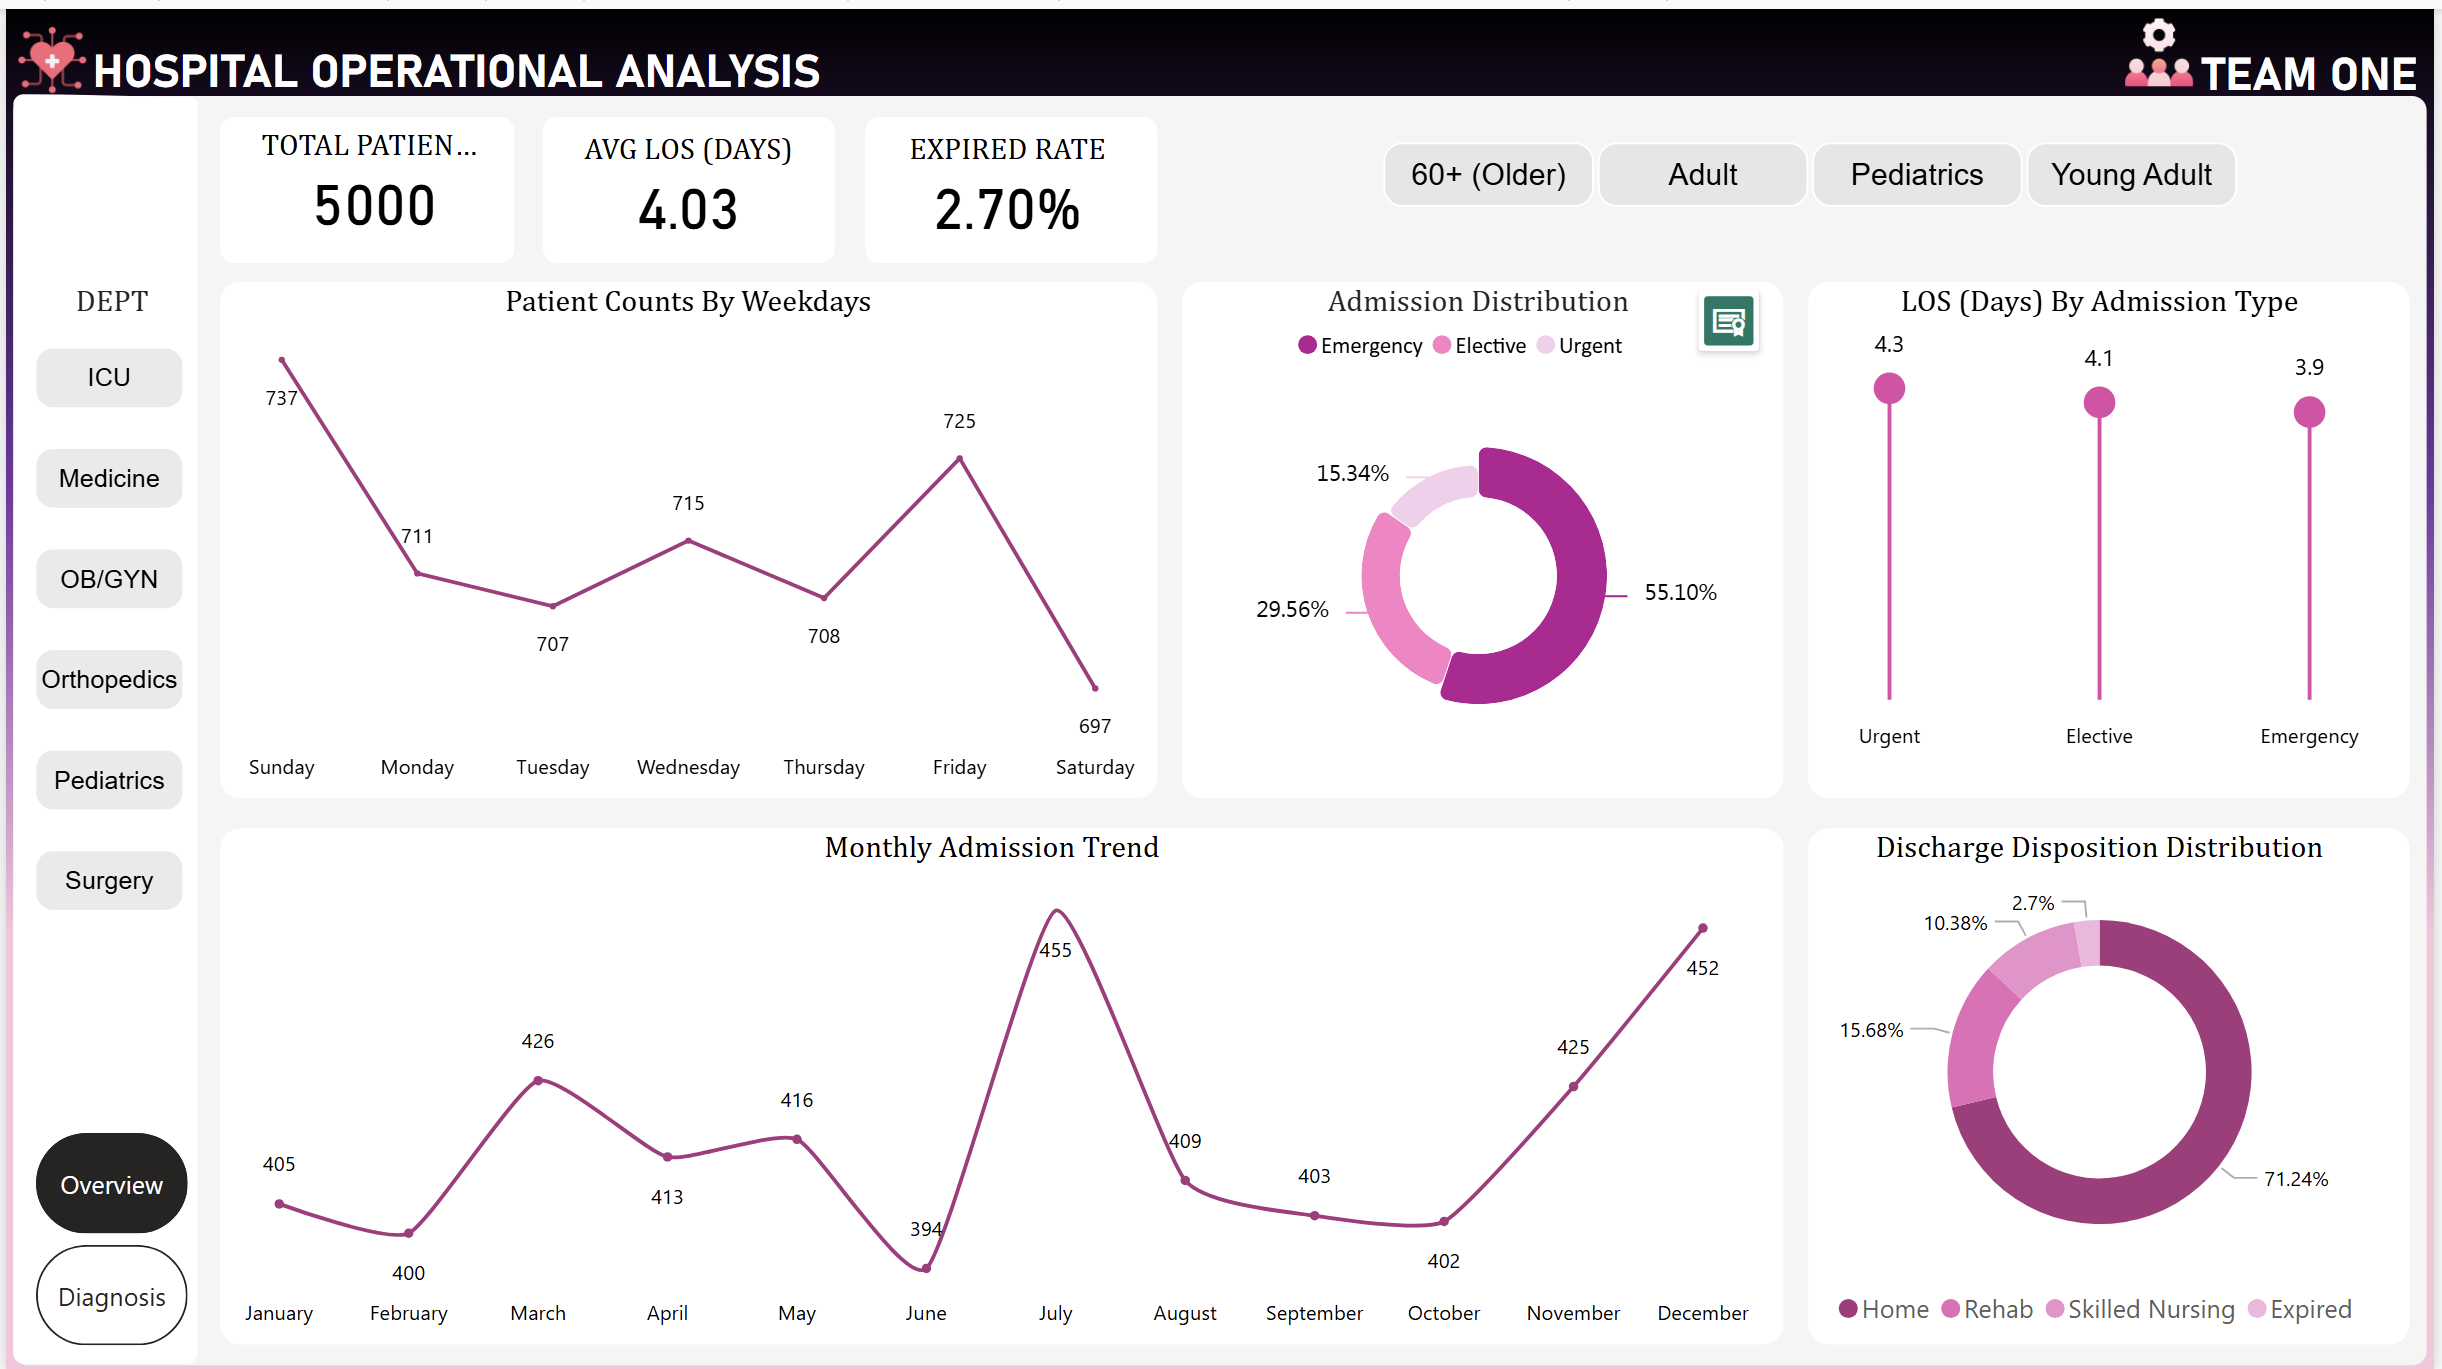

The page's visual inventory and layout, read from the dashboard file:
{"tool":"powerbi","page":{"name":"Overview","canvas":[1280,720],"ordinal":0},"visuals":[{"type":"card","title":"TOTAL PATIENTS","fields":{"Values":["Count(public fact_admissions.patient_id)"]},"box":[129.8,62.2,128,64],"z":0},{"type":"card","title":"AVG LOS (DAYS)","fields":{"Values":["Avg(public fact_admissions.los_days)"]},"box":[288,64,144,64],"z":1000},{"type":"card","title":"EXPIRED RATE","fields":{"Values":["public fact_admissions.Expired Rate"]},"box":[464,64,128,64],"z":2000},{"type":"lineChart","title":"Monthly Admission Trend","fields":{"Category":["public fact_admissions.admission_day.Variation.Date Hierarchy.Month"],"Y":["CountNonNull(public fact_admissions.admission_id)"]},"box":[112,432,816,272],"z":3000},{"type":"ChicletSlicer1448559807354","title":"DEPT","fields":{"Category":["public fact_admissions.department"]},"box":[0,144,112,352],"z":4000},{"type":"RoseDonutPiechart762B562BE2774F939Fvdsfdsf1FfasfD1F32D91sdw","title":"Admission Distribution","fields":{"category":["public fact_admissions.admission_type"],"measure":["CountNonNull(public fact_admissions.admission_id)"],"radiusScale":["CountNonNull(public fact_admissions.admission_type)"]},"box":[624,144,304,272],"z":5000},{"type":"donutChart","title":"Discharge Disposition Distribution","fields":{"Category":["public fact_admissions.discharge_disposition"],"Y":["CountNonNull(public fact_admissions.admission_id)"]},"box":[944,432,320,272],"z":7000},{"type":"lineChart","title":"Patient Counts By Weekdays ","fields":{"Y":["CountNonNull(public fact_admissions.patient_id)"],"Category":["public fact_admissions.admission_day_name"]},"box":[112,144,496,272],"z":8000},{"type":"ChicletSlicer1448559807354","fields":{"Category":["public fact_admissions.age_group"]},"box":[720,64,464,48],"z":9000},{"type":"pageNavigator","box":[16,592,80,112],"z":10000},{"type":"lineChart","title":"LOS (Days) By Admission Type","fields":{"Category":["public fact_admissions.admission_type"],"Y":["Avg(public fact_admissions.los_days)"]},"box":[944,144,320,256],"z":10001}]}

Visuals, with their boxes in screenshot pixels (x1, y1, x2, y2), scaled from the page's 1280x720 canvas onto the 2442x1369 screenshot:
"TOTAL PATIENTS" card: region(248, 118, 492, 240)
"AVG LOS (DAYS)" card: region(549, 122, 824, 243)
"EXPIRED RATE" card: region(885, 122, 1129, 243)
"Monthly Admission Trend" lineChart: region(214, 821, 1770, 1339)
"DEPT" ChicletSlicer1448559807354: region(0, 274, 214, 943)
"Admission Distribution" RoseDonutPiechart762B562BE2774F939Fvdsfdsf1FfasfD1F32D91sdw: region(1190, 274, 1770, 791)
"Discharge Disposition Distribution" donutChart: region(1801, 821, 2411, 1339)
"Patient Counts By Weekdays " lineChart: region(214, 274, 1160, 791)
ChicletSlicer1448559807354 - public fact_admissions.age_group: region(1374, 122, 2259, 213)
pageNavigator: region(31, 1126, 183, 1339)
"LOS (Days) By Admission Type" lineChart: region(1801, 274, 2411, 761)
